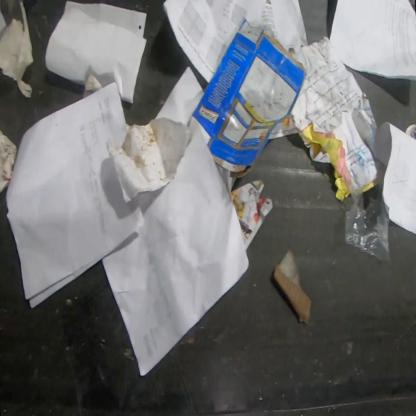cardboard: (187, 16, 307, 178), (105, 117, 193, 205), (271, 245, 313, 326)
soft_plastic: (343, 178, 392, 264)
